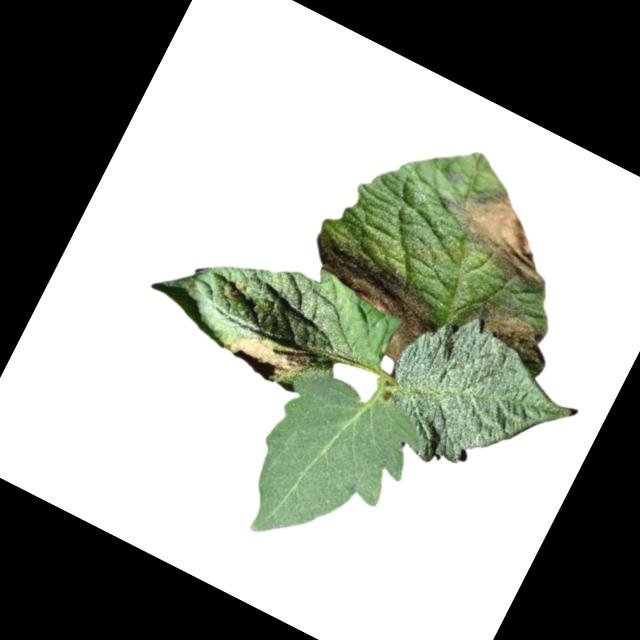Late_blight: (282, 226, 452, 371), (423, 164, 578, 295), (221, 318, 316, 395), (469, 295, 557, 364)
